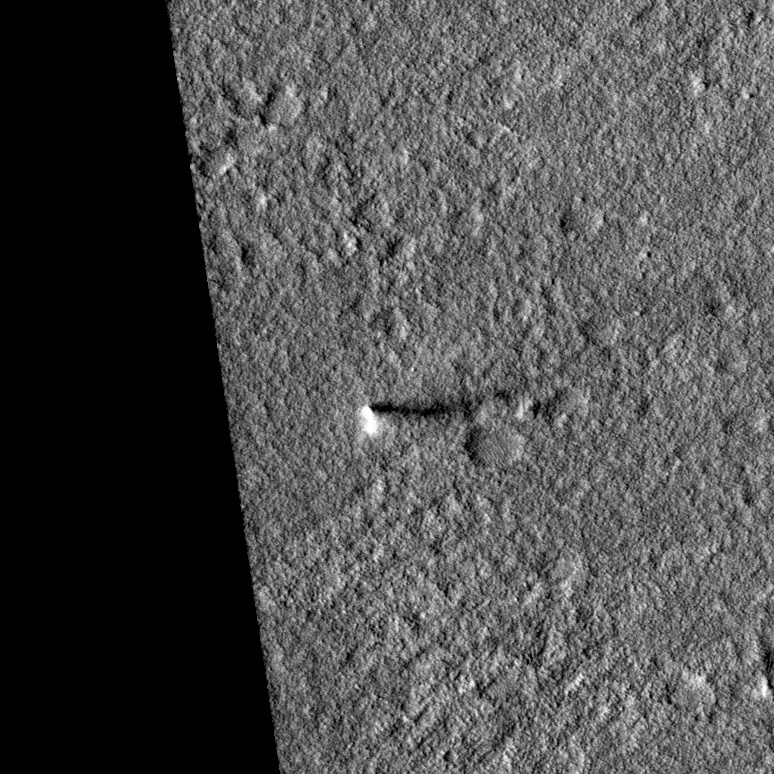dust_devil: (358, 389, 513, 439)
